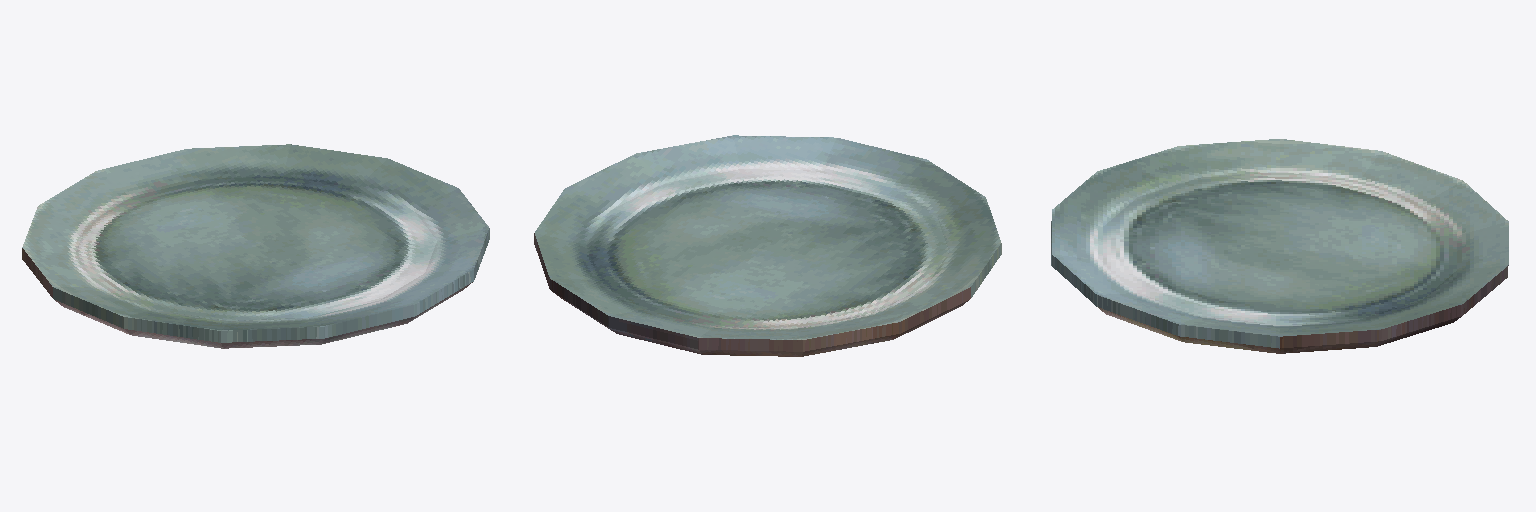
The picture shows the model from 3 angles: view 1: azimuth 30°, elevation 25°; view 2: azimuth 150°, elevation 25°; view 3: azimuth 270°, elevation 25°; orthographic projection.
Parts seen in each view (by area): view 1: plate; view 2: plate; view 3: plate.
Boxes of the visible parts, <box> form: plate: <box>22,144,489,348</box>; plate: <box>534,135,1001,356</box>; plate: <box>1051,139,1508,353</box>.
Size of the model in its own units: 0.5754 by 0.0648 by 0.5612.
1 materials, 1 textured.